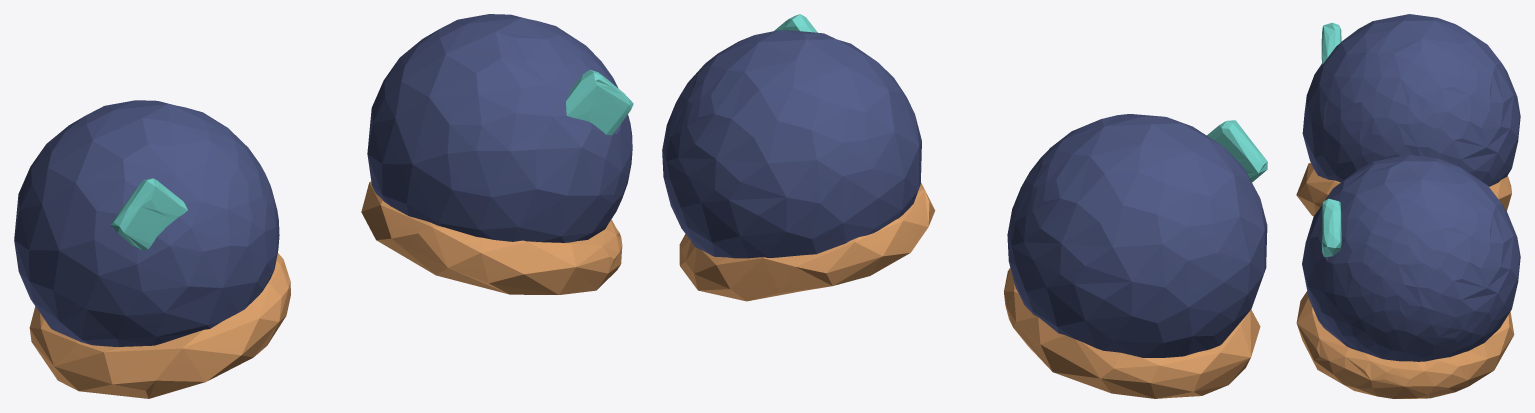
Rendered from tenue_corail.glb.
The picture shows the model from 3 angles, left to right: view 1: azimuth 30°, elevation 25°; view 2: azimuth 150°, elevation 25°; view 3: azimuth 270°, elevation 25°; orthographic projection. The views are drawn at different scales.
Parts seen in each view (by area): view 1: head__coiffe_hair, head__coiffe, head__coiffe_glow; view 2: head__coiffe_hair, head__coiffe, head__coiffe_glow; view 3: head__coiffe_hair, head__coiffe, head__coiffe_glow.
Part boxes in pixels (x1,y1,x2,y2): head__coiffe_hair: [14, 14, 632, 346]; head__coiffe: [29, 181, 622, 398]; head__coiffe_glow: [110, 69, 633, 249]; head__coiffe_hair: [662, 30, 1267, 357]; head__coiffe: [679, 183, 1260, 398]; head__coiffe_glow: [774, 14, 1267, 182]; head__coiffe_hair: [1302, 14, 1520, 361]; head__coiffe: [1296, 162, 1514, 398]; head__coiffe_glow: [1321, 22, 1341, 257].
Size of the model in its own units: 0.4467 by 0.1817 by 0.1822.
